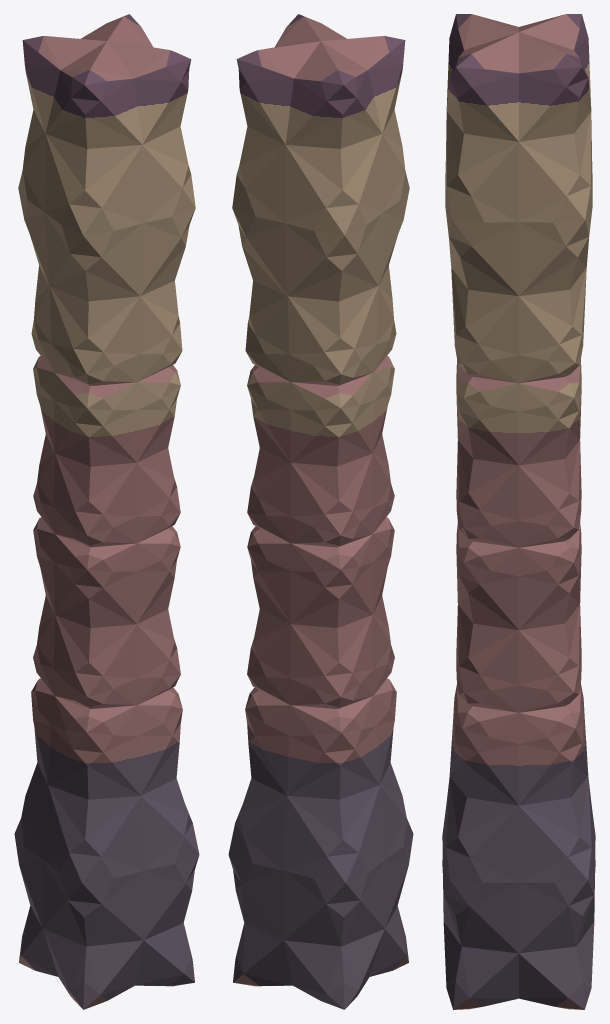
The model's file is Pillar 2.002.fbx.
3 renders of one model, left to right at view 1: azimuth 30°, elevation 25°; view 2: azimuth 150°, elevation 25°; view 3: azimuth 270°, elevation 25°, orthographic.
Visible parts, largest first — view 1: Pillar 2.002; view 2: Pillar 2.002; view 3: Pillar 2.002.
Boxes of the visible parts, bbox=[...] form: Pillar 2.002: bbox=[14, 14, 199, 1009]; Pillar 2.002: bbox=[228, 14, 413, 1009]; Pillar 2.002: bbox=[442, 14, 595, 1009].
Bounding box in the file's own units: 84.26 × 582 × 84.26.
